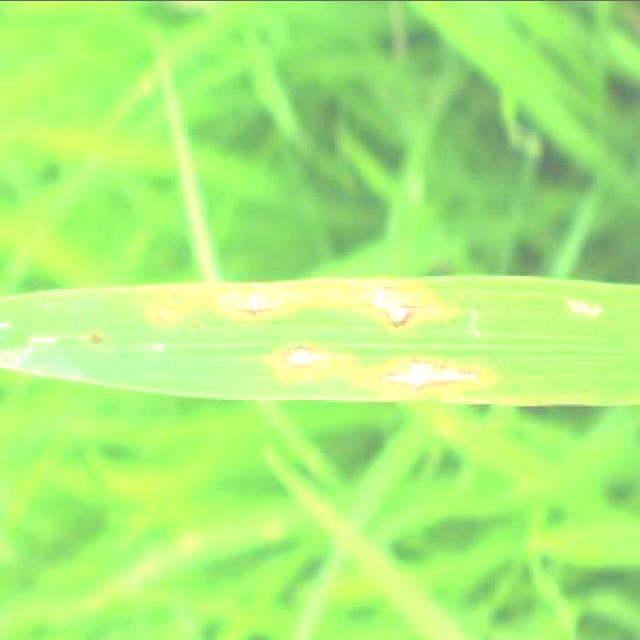Brown_Spot: (214, 283, 524, 400)
